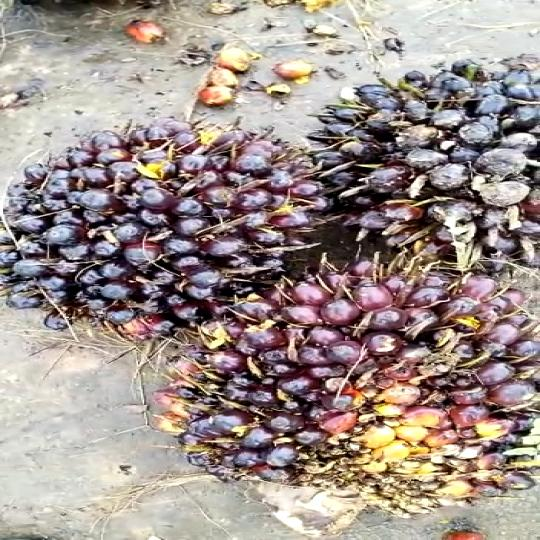mentah: (182, 259, 540, 509), (0, 109, 328, 334), (303, 46, 538, 284)
